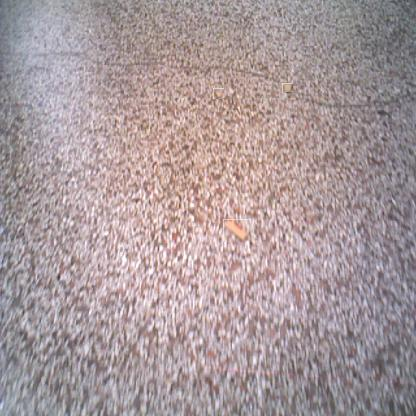dirty: (223, 219, 250, 242), (213, 88, 224, 99), (274, 9, 284, 18), (283, 83, 292, 92)
